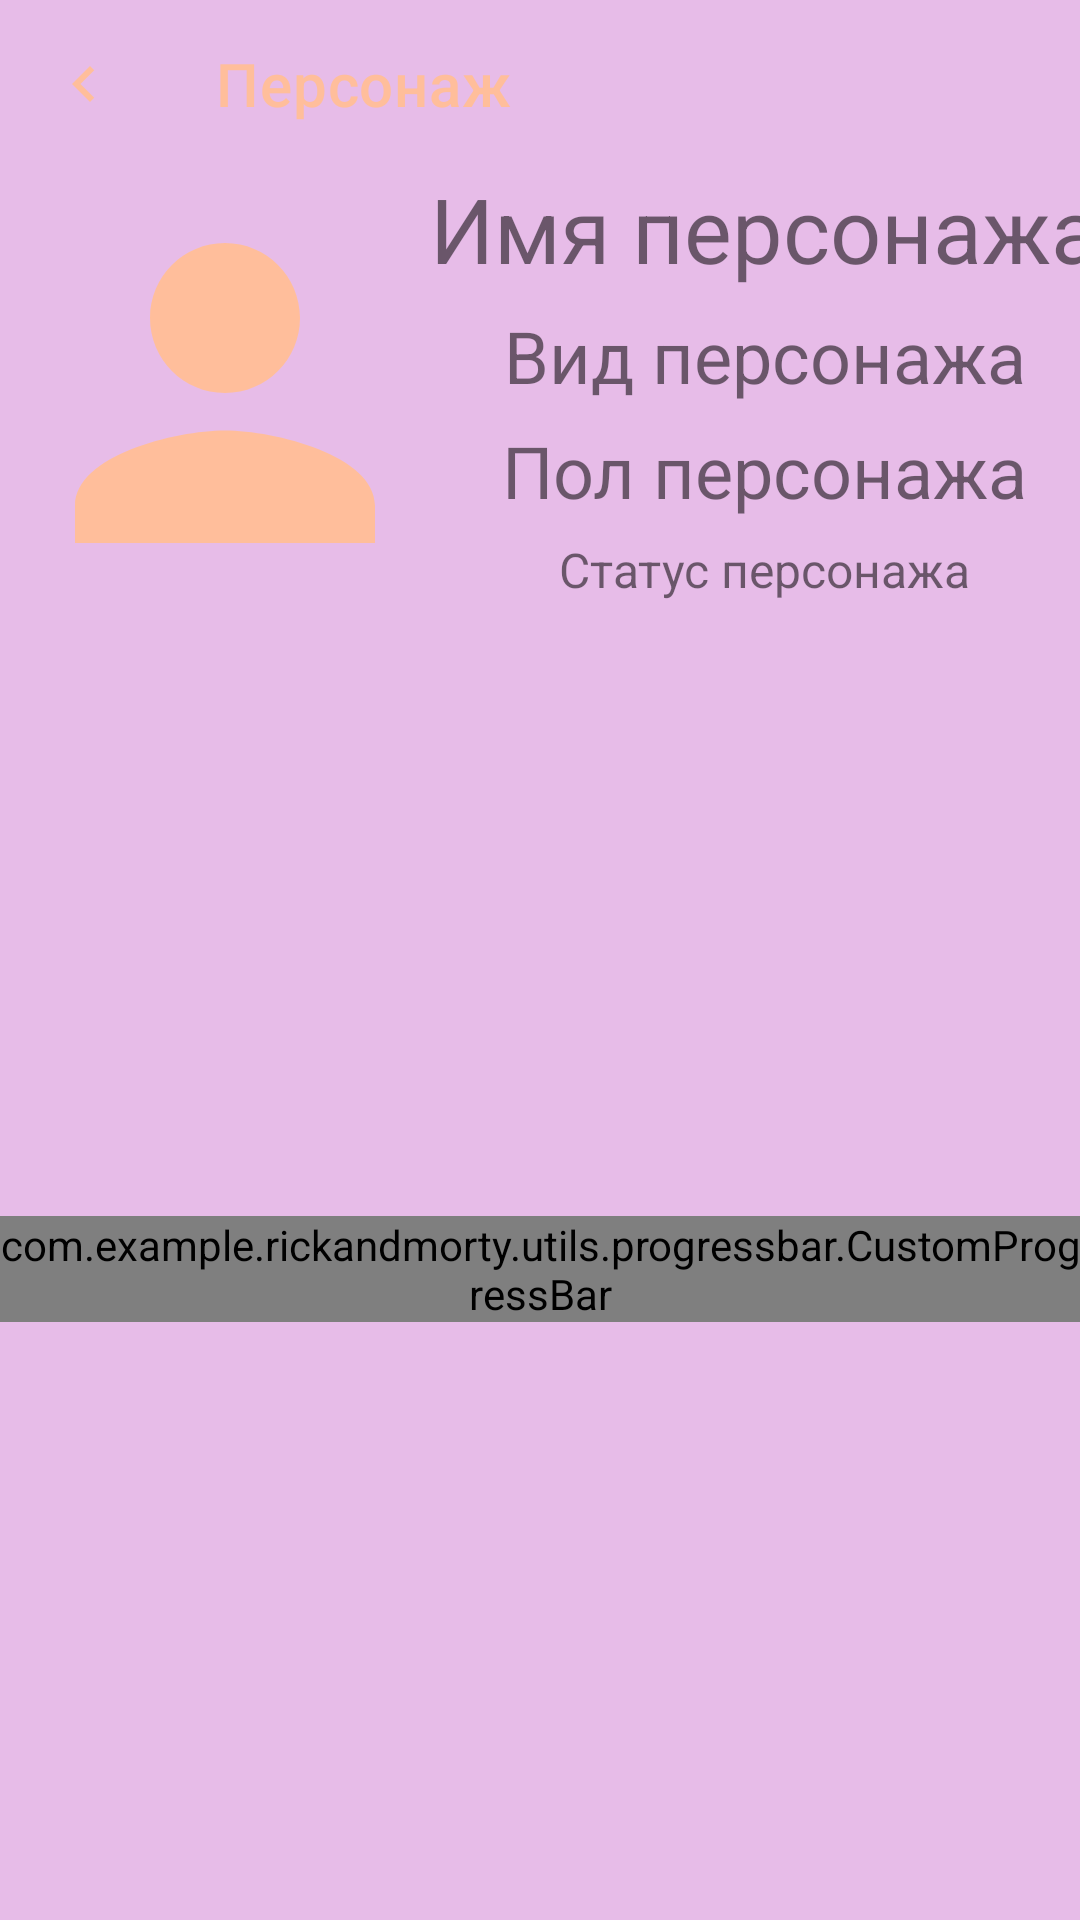

Named icons in this screenshot (1080 × 1920) and their bounding boxes, Rect(x1, y1, x2, y2):
person: Rect(75, 243, 375, 543)
